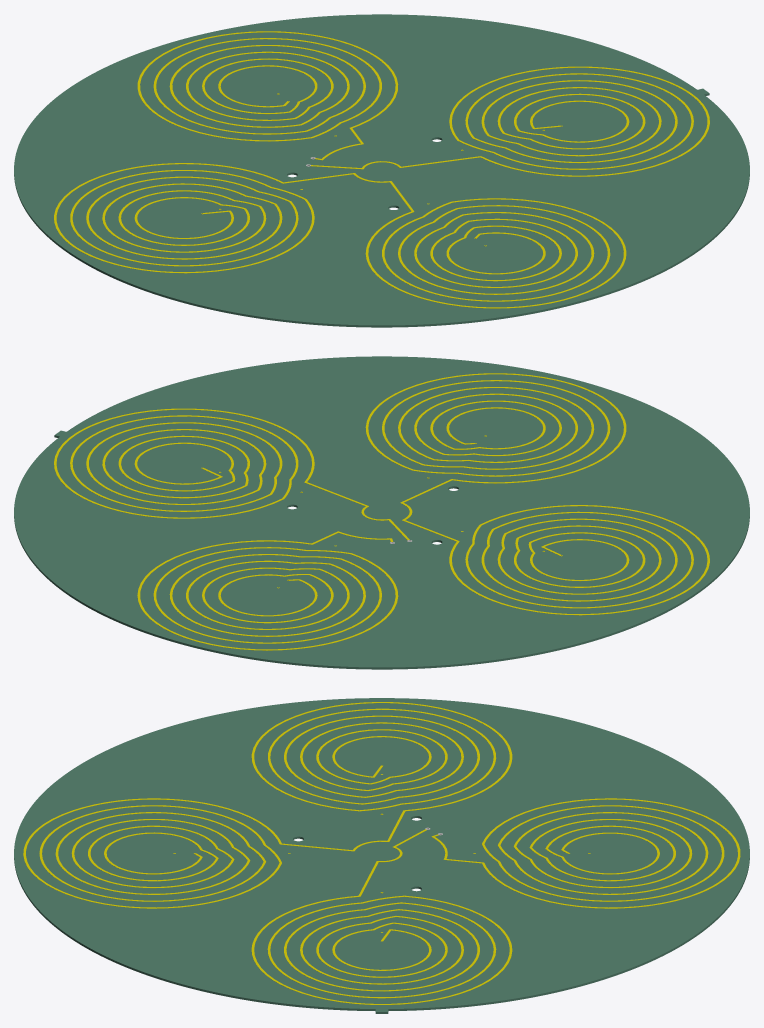
The model's file is SB1R-QB_with_components.glb.
3 views of the same model, one above another, from view 1: azimuth 30°, elevation 25°; view 2: azimuth 150°, elevation 25°; view 3: azimuth 270°, elevation 25° (orthographic).
Visible parts, largest first — view 1: =>[0:1:1:5], =>[0:1:1:2]; view 2: =>[0:1:1:5], =>[0:1:1:2]; view 3: =>[0:1:1:5], =>[0:1:1:2].
Part boxes in pixels (x1,y1,x2,y2): =>[0:1:1:5]: [14, 14, 749, 327]; =>[0:1:1:2]: [54, 31, 709, 308]; =>[0:1:1:5]: [14, 356, 749, 669]; =>[0:1:1:2]: [54, 373, 709, 650]; =>[0:1:1:5]: [14, 698, 749, 1013]; =>[0:1:1:2]: [23, 702, 740, 1004].
Size of the model in its own units: 0.23 by 0.00079 by 0.228.
